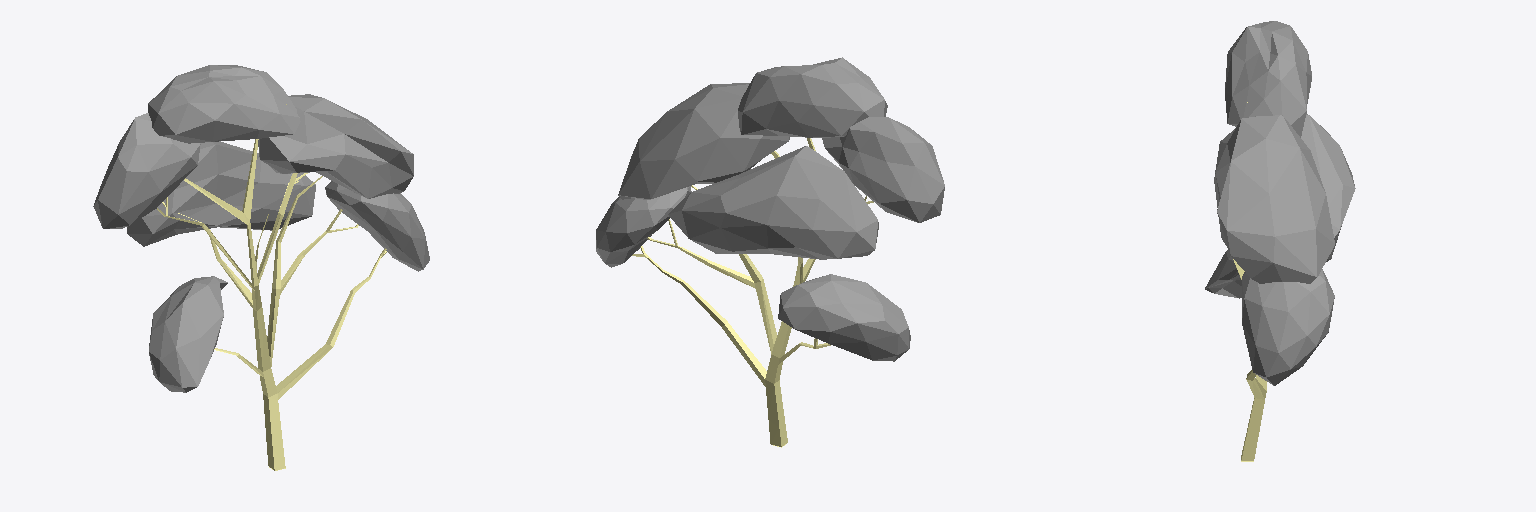
File: GumtreeLowPoly.obj
3 views of the same model, side by side, from view 1: azimuth 30°, elevation 25°; view 2: azimuth 150°, elevation 25°; view 3: azimuth 270°, elevation 25° (orthographic).
Visible parts, largest first — view 1: Icosphere.002, Icosphere.001, Icosphere.005, Cube, Icosphere, Icosphere.004, Icosphere.003; view 2: Icosphere.005, Icosphere.002, Icosphere.001, Icosphere, Icosphere.004, Cube, Icosphere.003; view 3: Icosphere.002, Icosphere.003, Icosphere.001, Icosphere.005, Icosphere.004, Cube.
Part boxes in pixels (x1,y1,x2,y2): Icosphere.002: (258,94,413,198); Icosphere.001: (148,65,300,143); Icosphere.005: (127,141,315,246); Cube: (157,104,386,470); Icosphere: (93,113,200,228); Icosphere.004: (149,276,227,392); Icosphere.003: (325,181,429,271); Icosphere.005: (668,146,878,259); Icosphere.002: (618,83,789,199); Icosphere.001: (738,57,887,137); Icosphere: (822,117,944,222); Icosphere.004: (778,274,910,361); Cube: (632,138,873,447); Icosphere.003: (596,186,691,267); Icosphere.002: (1214,115,1334,283); Icosphere.003: (1242,269,1334,385); Icosphere.001: (1225,21,1311,137); Icosphere.005: (1301,114,1355,261); Icosphere.004: (1205,249,1241,298); Cube: (1233,102,1266,461).
Size of the model in its own units: 19.71 by 22.57 by 7.7.